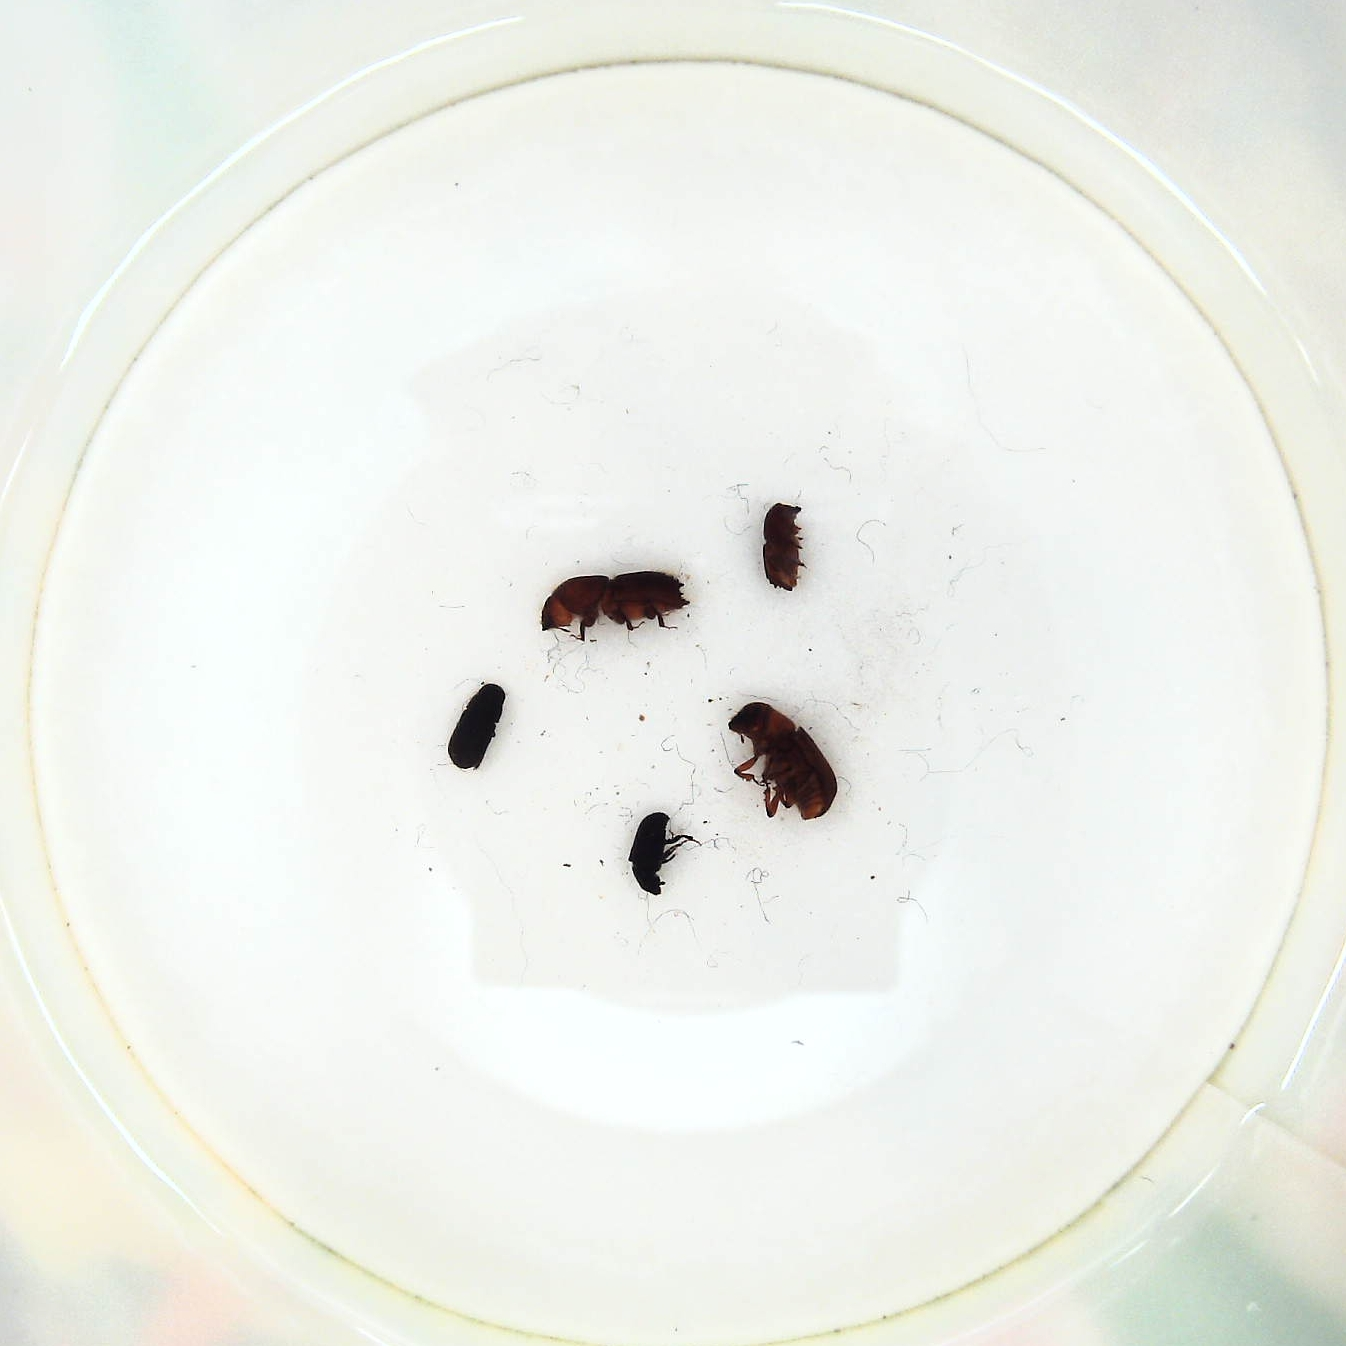Boerner: (535, 568, 699, 643)
Leconte: (728, 695, 839, 821)
armandi: (445, 677, 513, 780)
coleoptera: (626, 807, 706, 897)
linnaeus: (756, 496, 811, 599)
